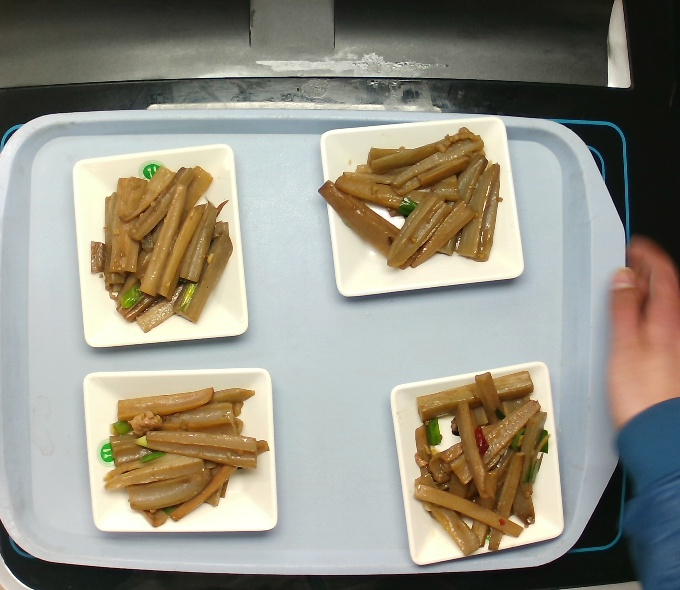wcq-QingChaoOuKuai: (317, 115, 506, 272), (404, 366, 550, 553), (93, 374, 269, 525), (86, 159, 235, 334)
